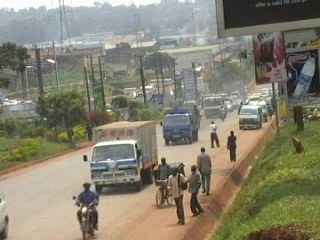Car: (0, 189, 13, 239), (222, 99, 232, 116), (232, 97, 241, 110)
Motorcycle: (70, 185, 106, 239), (217, 105, 227, 122)
